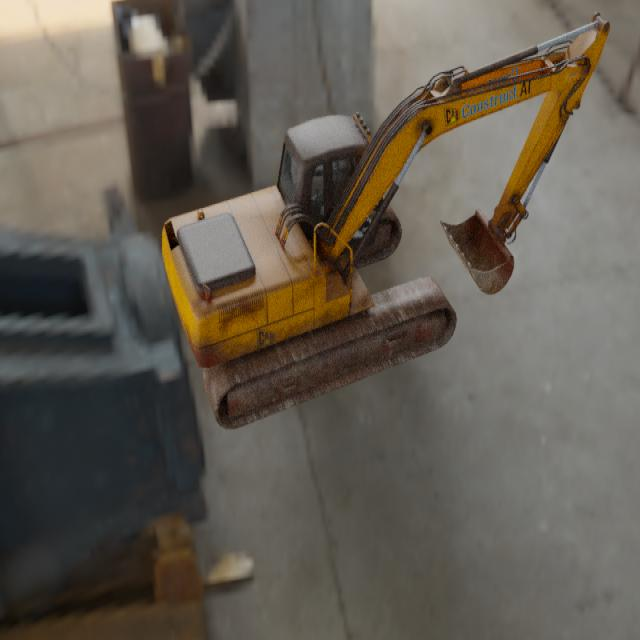excavator: (161, 11, 610, 429)
